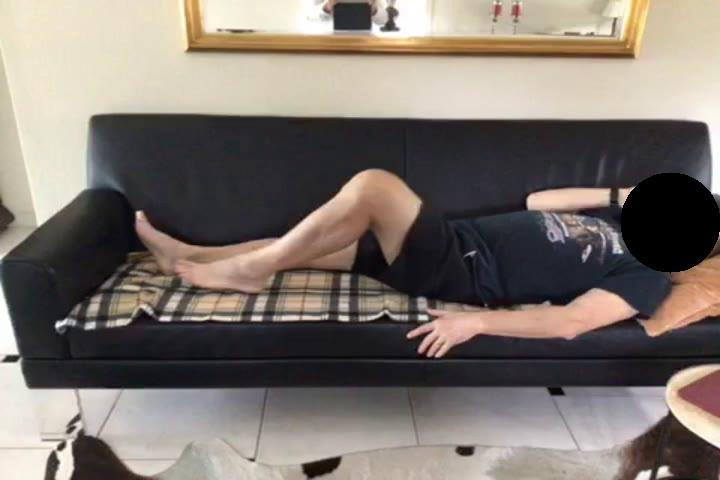lower_body: (134, 168, 483, 306)
